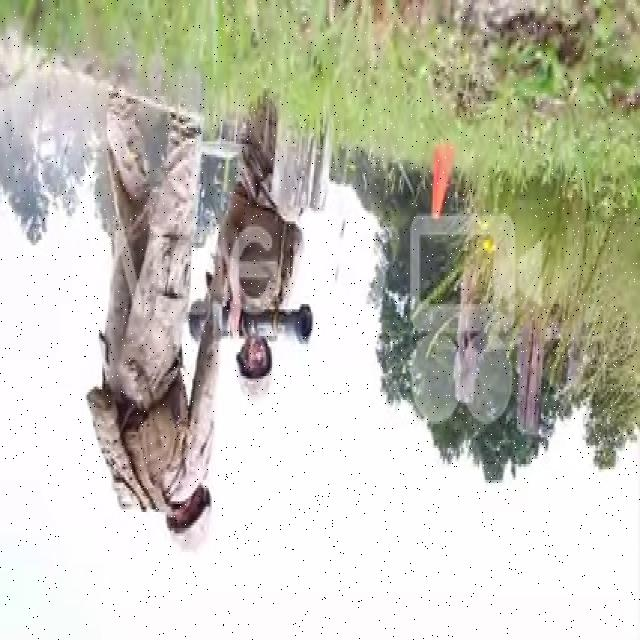bazooka: (186, 300, 317, 341)
